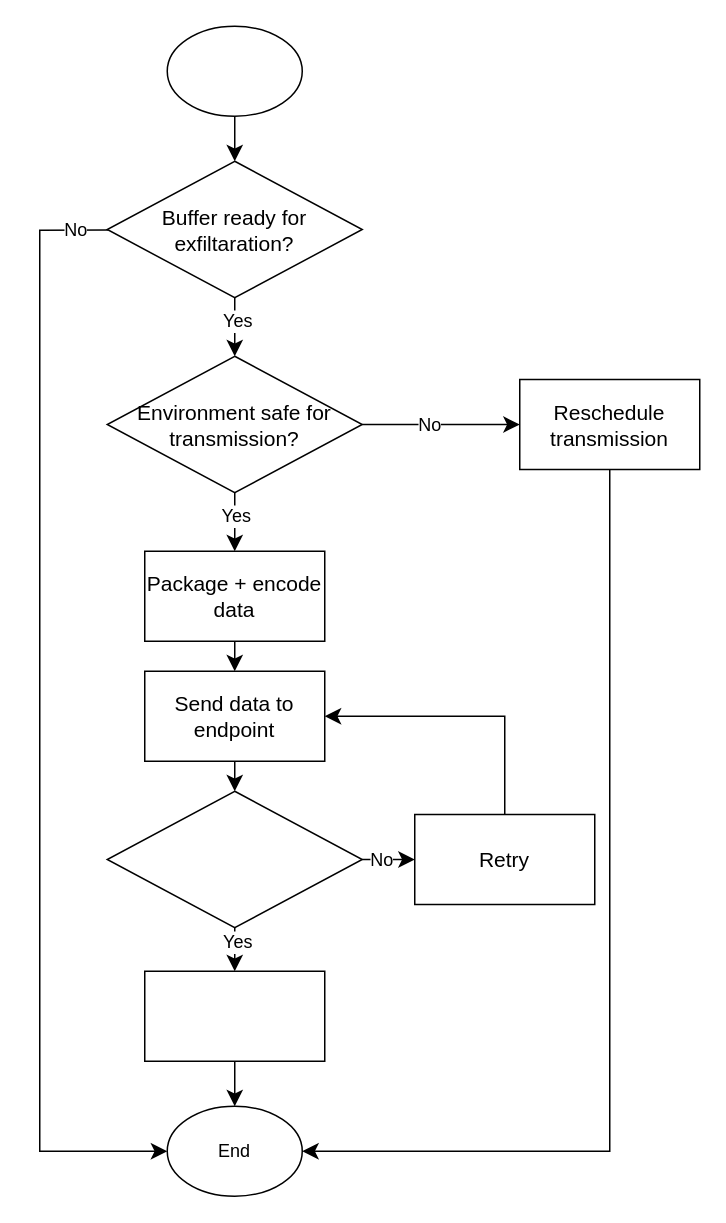
This 726x1223 diagram has some shape labels left out. The shapes that lost their labels are listed below. From the top down, each one's centre as x and y in pixels, then its label:
(234,70): Start
(234,859): Acknowledgment received?
(234,1015): Clear buffer
